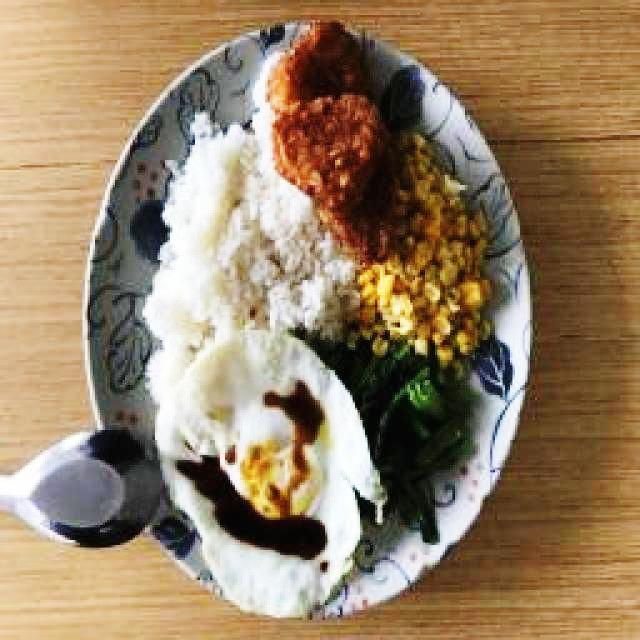Hashbrown: (271, 94, 379, 208), (266, 20, 359, 110), (316, 188, 389, 264)
fried_eggs: (158, 332, 376, 617)
rice: (144, 114, 349, 397)
water_spinach: (360, 344, 484, 542)
